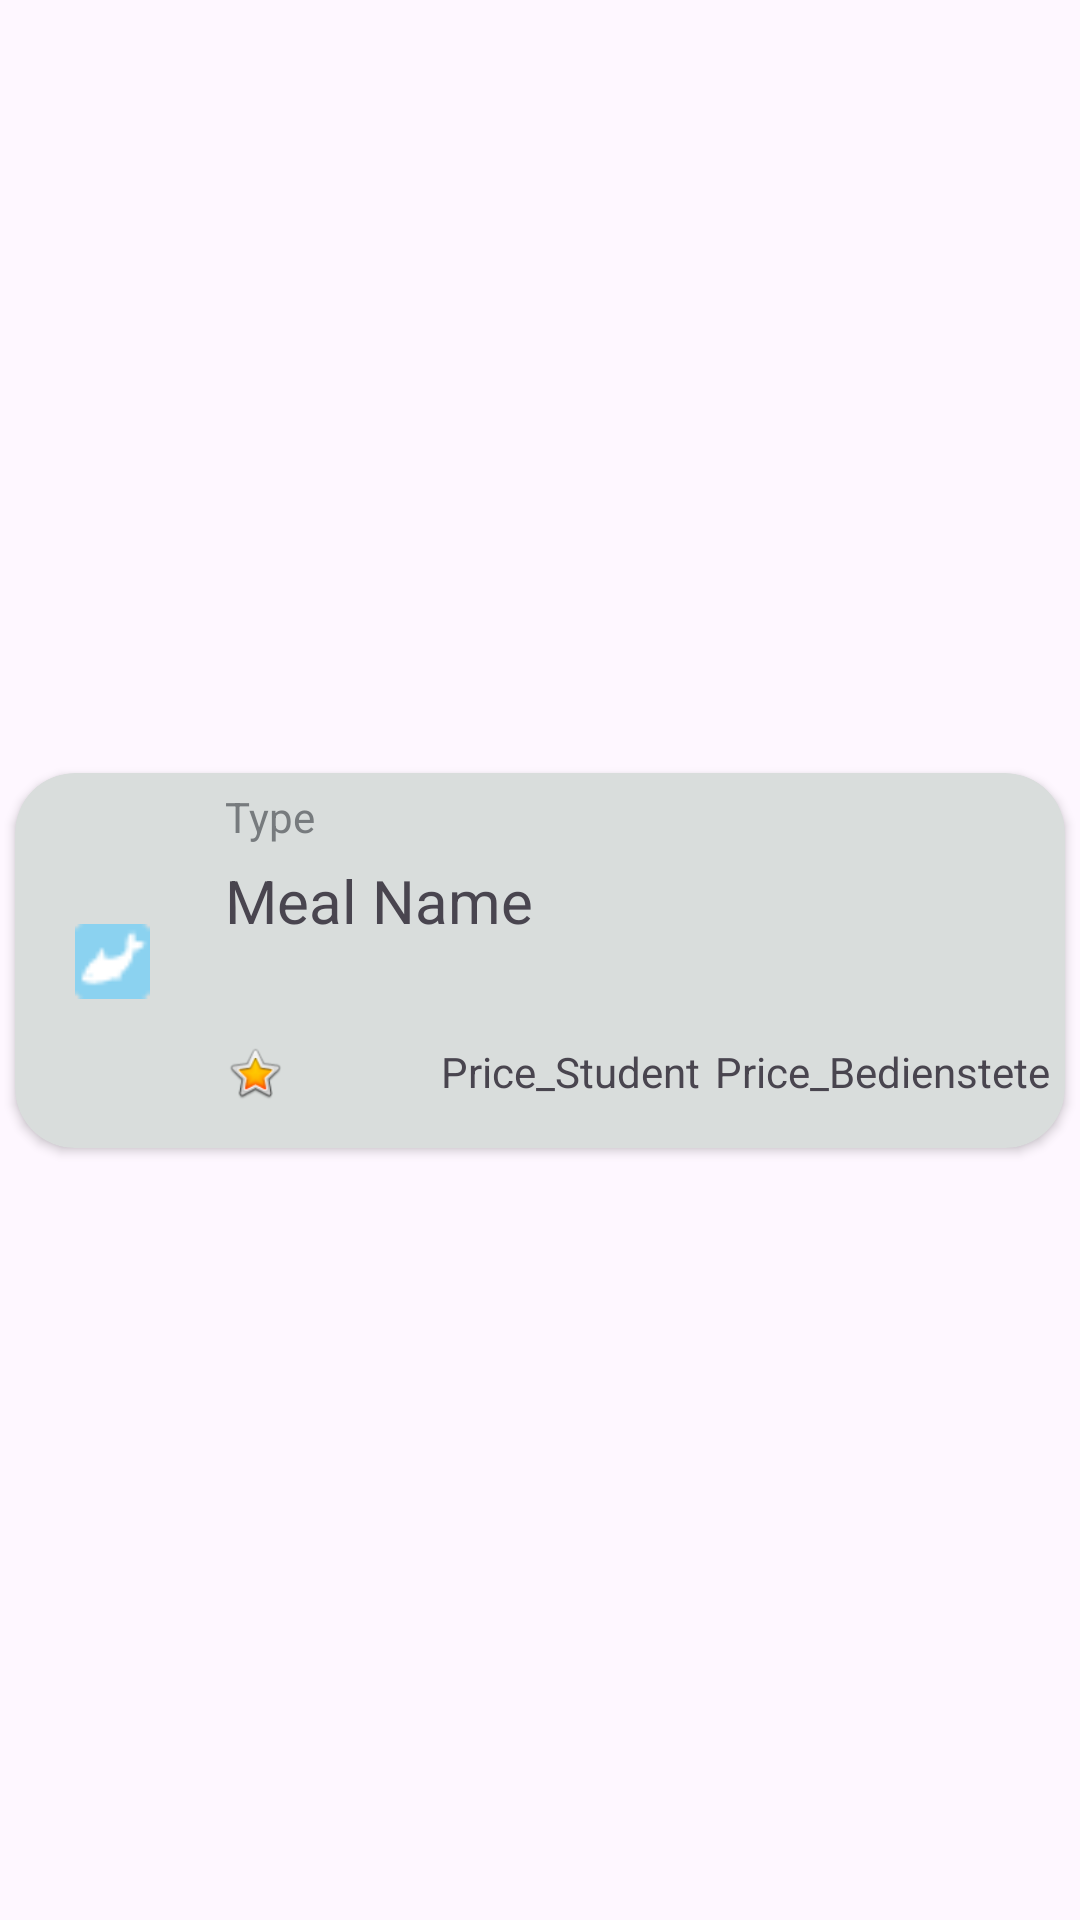

Icon click points for this 1080 × 1920 phone screenshot, format [x,y]:
fisch: [112,961]
star on: [256,1073]
